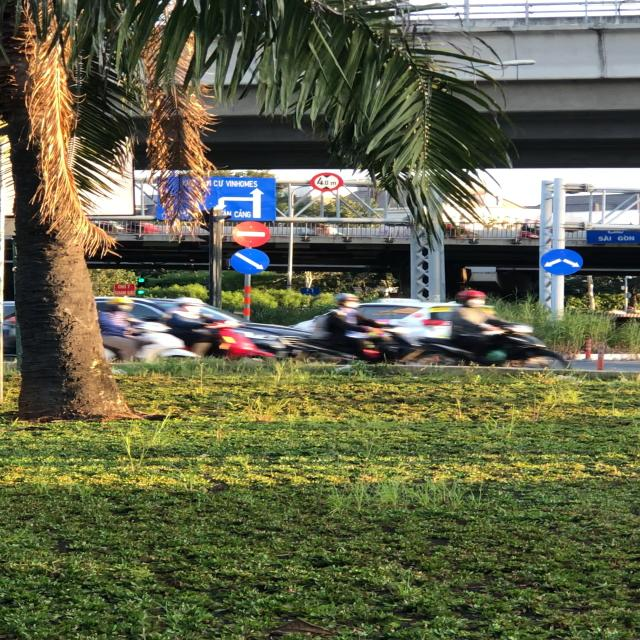Bien bao cam di nguoc chieu: (231, 219, 275, 248)
Bien bao han che chieu cao: (307, 171, 346, 193)
Bien bao huong phai di vong chuong ngai vat: (538, 248, 588, 276), (227, 248, 275, 277)
